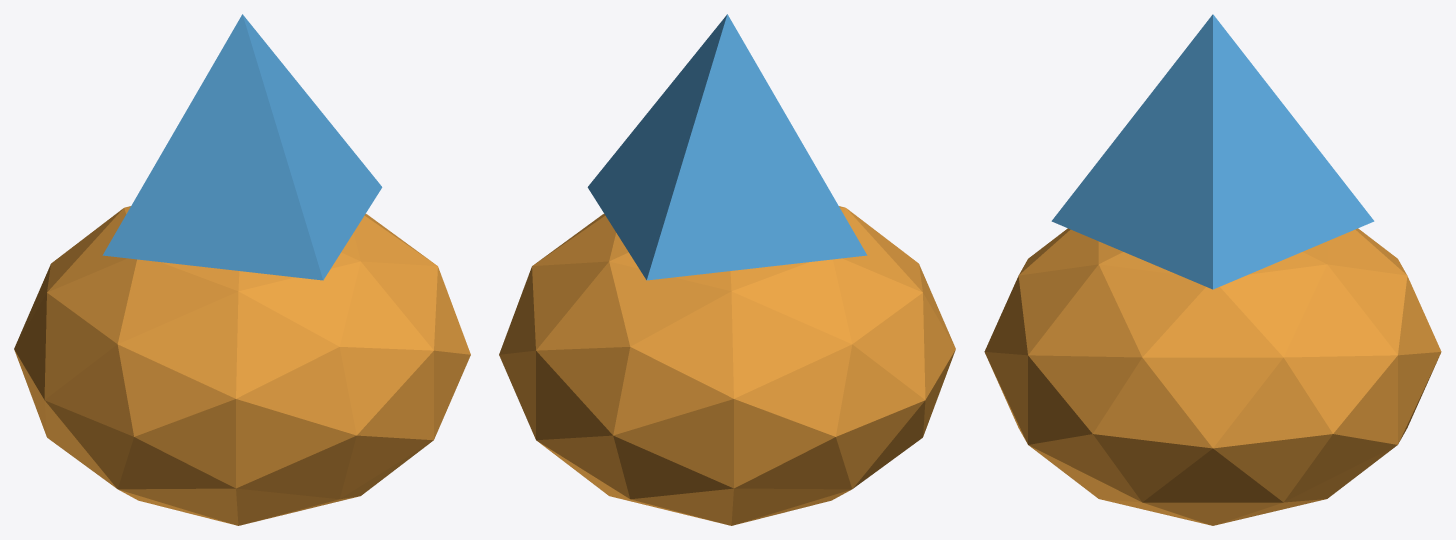
The model's file is trompo.glb.
3 renders of one model, left to right at view 1: azimuth 30°, elevation 25°; view 2: azimuth 150°, elevation 25°; view 3: azimuth 270°, elevation 25°, orthographic.
Parts seen in each view (by area): view 1: cuerpo, punta; view 2: cuerpo, punta; view 3: cuerpo, punta.
Part boxes in pixels (x1,y1,x2,y2): cuerpo: (14,206,470,525); punta: (102,14,382,280); cuerpo: (499,206,955,525); punta: (587,14,867,280); cuerpo: (984,228,1441,525); punta: (1051,14,1374,289).
Bounding box in the file's own units: 2 × 2.33 × 2.
